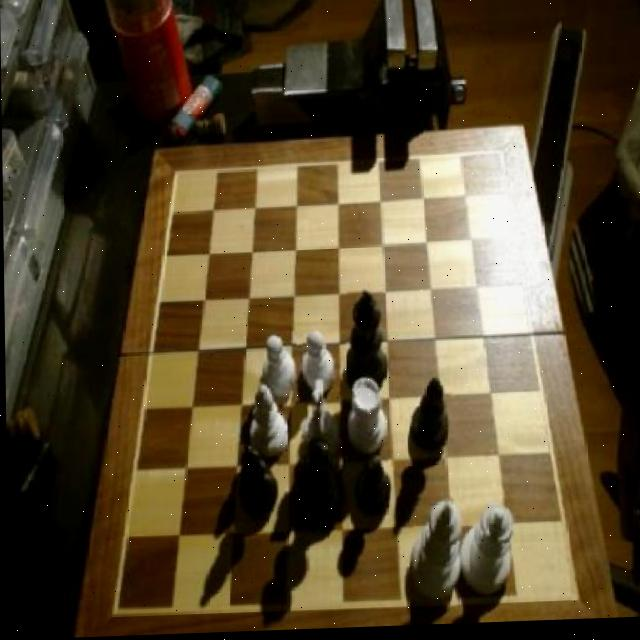bishop: (409, 383, 452, 457), (238, 443, 279, 519)
black-bishop: (344, 294, 385, 397)
black-knight: (353, 456, 393, 518)
black-pawn: (294, 439, 344, 528)
black-rook: (248, 382, 289, 460)
white-bishop: (409, 499, 461, 613)
white-king: (301, 376, 344, 463)
white-knight: (261, 335, 297, 403), (302, 335, 335, 399)
white-pawn: (460, 504, 512, 602)
white-queen: (348, 381, 391, 459)
